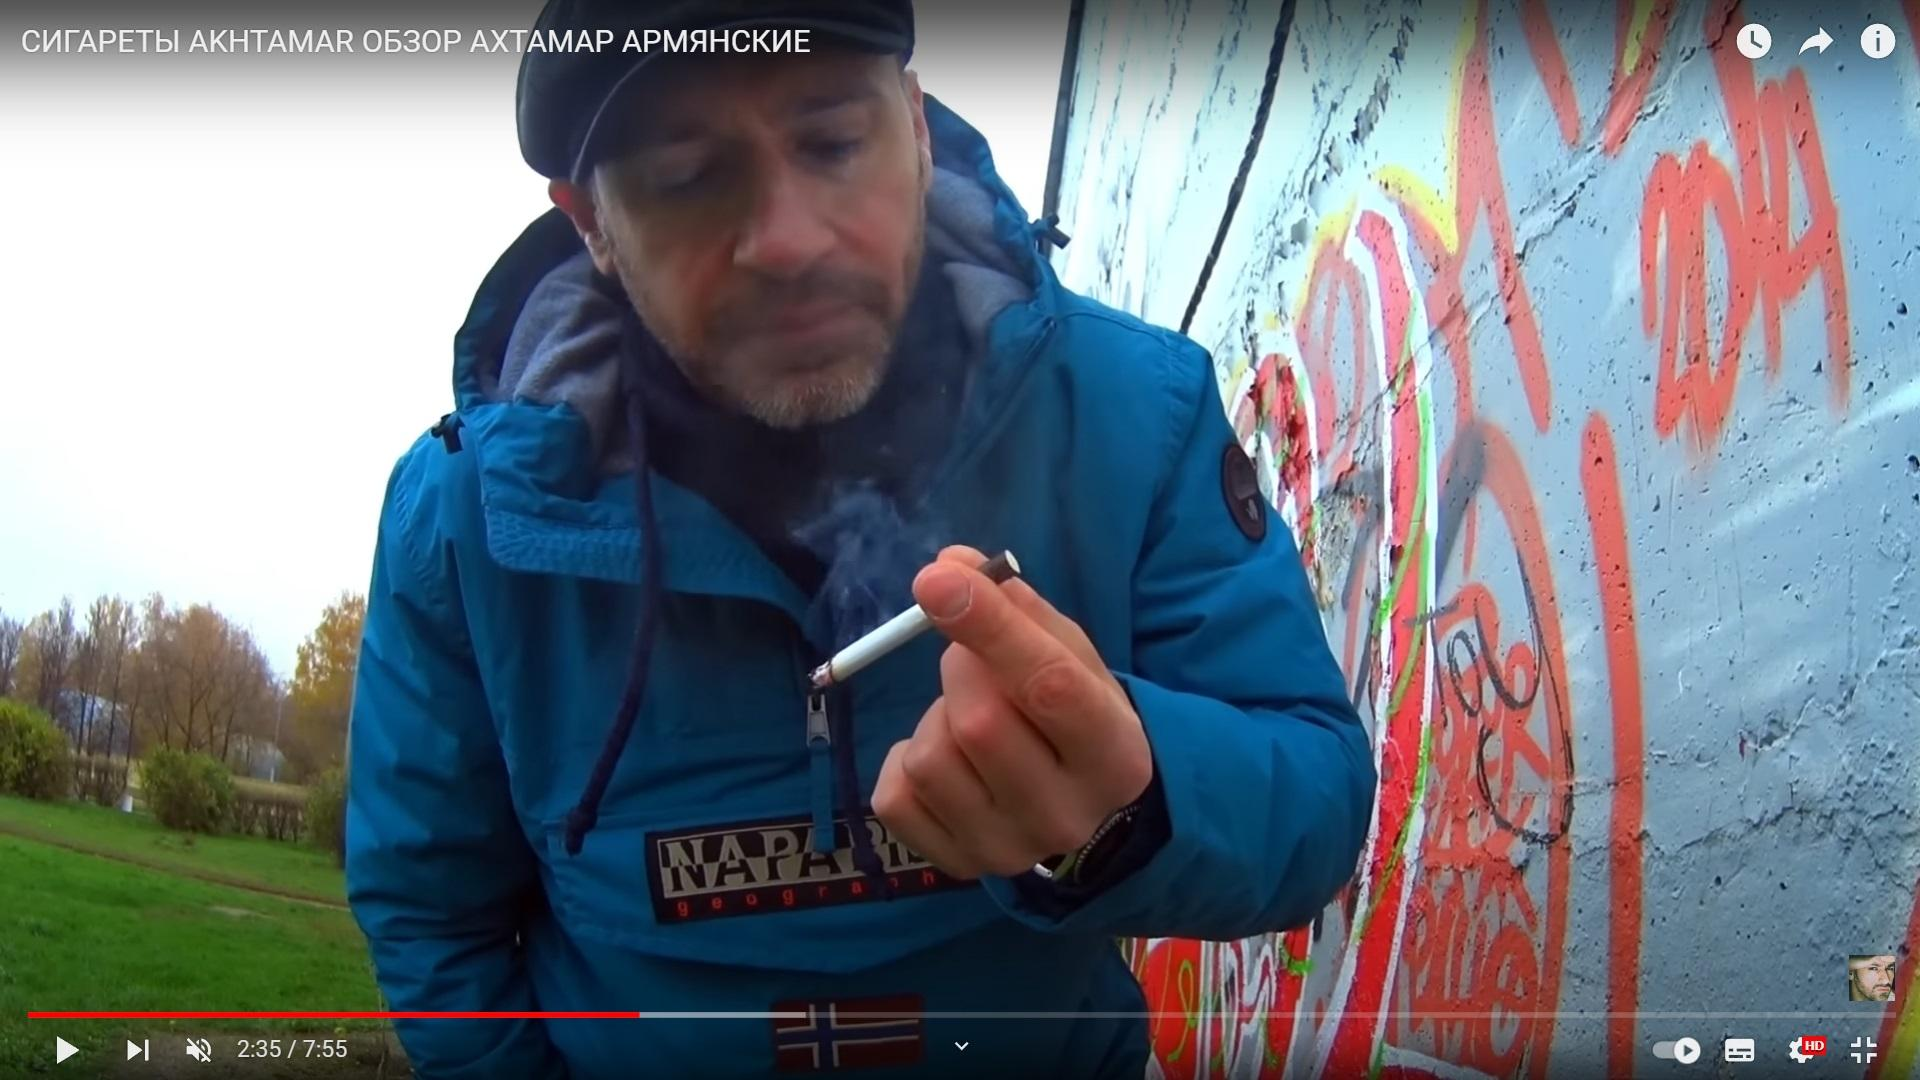cigarette: (811, 550, 1021, 691)
